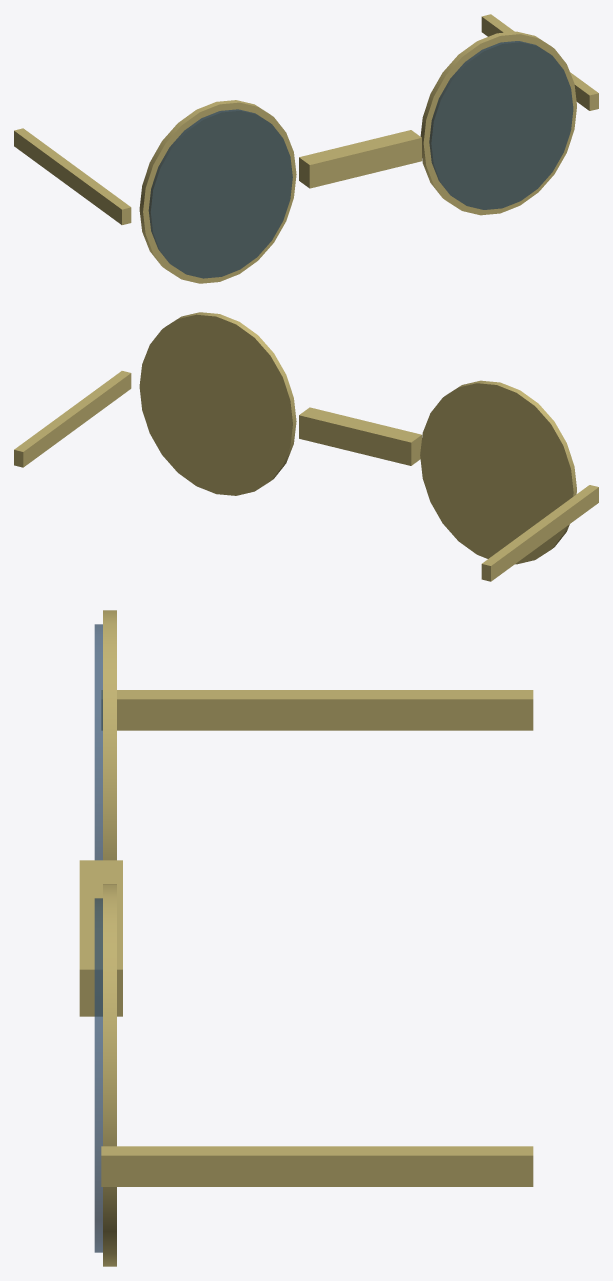
The model's file is aviator.glb.
The picture shows the model from 3 angles, top to bottom: view 1: azimuth 30°, elevation 25°; view 2: azimuth 150°, elevation 25°; view 3: azimuth 270°, elevation 25°; orthographic projection. The views are drawn at different scales.
Visible parts, largest first — view 1: aviator; view 2: aviator; view 3: aviator.
Boxes of the visible parts, x1,y1,x2,y2 form: aviator: (14,14,598,283); aviator: (14,312,598,581); aviator: (79,610,533,1266).
Bounding box in the file's own units: 0.255 × 0.0907 × 0.105.
